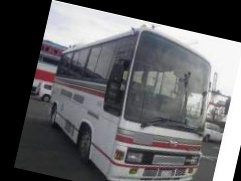bus: (34, 9, 229, 181)
